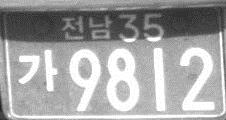1: (151, 47, 168, 114)
2: (178, 45, 217, 113)
3: (118, 12, 138, 42)
5: (141, 11, 165, 42)
8: (105, 47, 140, 112)
9: (68, 46, 102, 113)
가: (17, 47, 57, 93)
전남_O: (59, 13, 113, 41)
